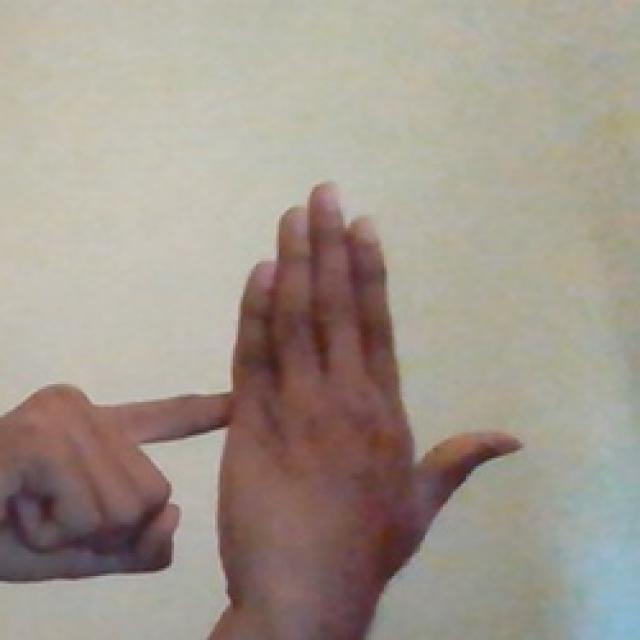Alphabet-R: (1, 147, 526, 640)
